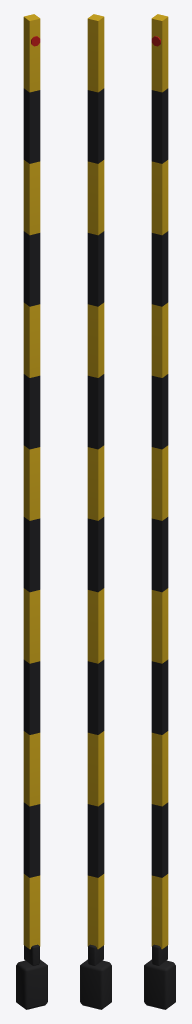
File: CrossingArmRoadKM.fbx
3 renders of one model, left to right at view 1: azimuth 30°, elevation 25°; view 2: azimuth 150°, elevation 25°; view 3: azimuth 330°, elevation 25°, orthographic.
Parts seen in each view (by area): view 1: CrossingArmRoadKM; view 2: CrossingArmRoadKM; view 3: CrossingArmRoadKM.
Part boxes in pixels (x1=…): CrossingArmRoadKM: x1=16, y1=14, x2=47, y2=1009; CrossingArmRoadKM: x1=80, y1=14, x2=111, y2=1009; CrossingArmRoadKM: x1=144, y1=14, x2=175, y2=1009.
Size of the model in its own units: 0.18 by 7.02 by 0.14.
